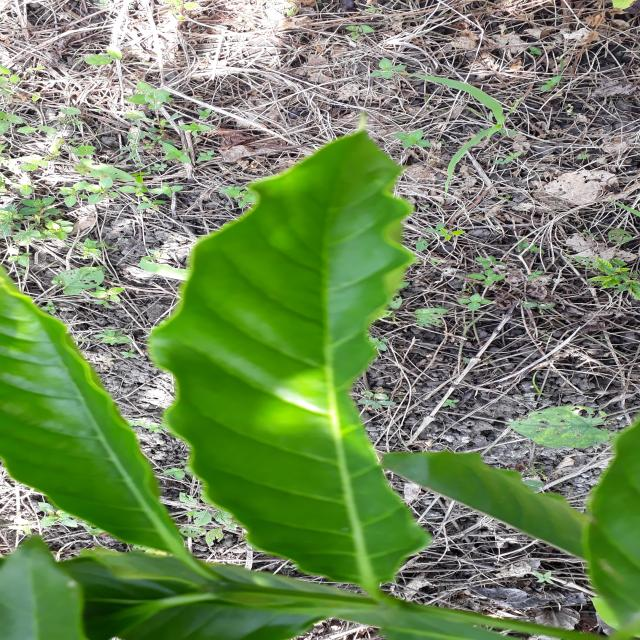Sanas: (148, 131, 431, 595)
